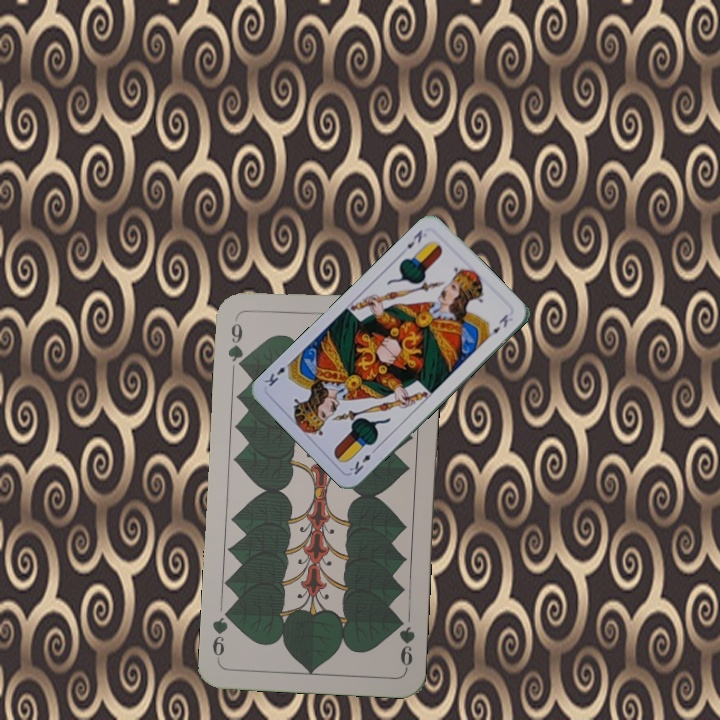EK: (345, 443, 380, 477), (397, 226, 425, 256)
G9: (393, 613, 418, 672), (223, 314, 247, 373)
